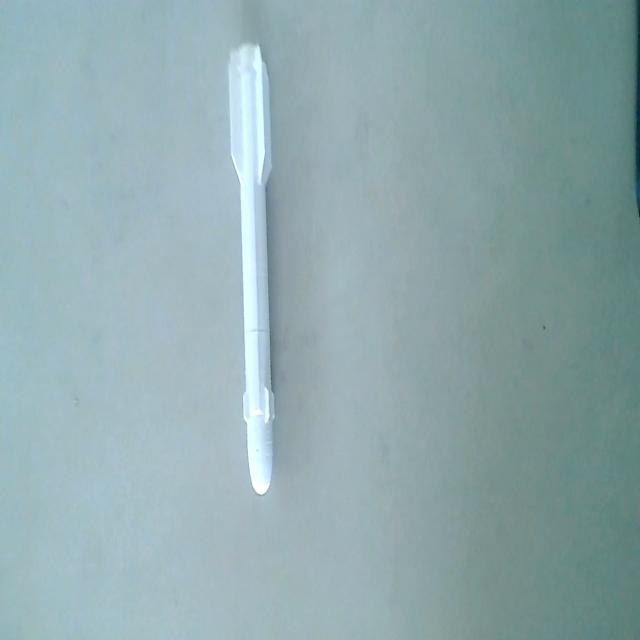Rocket: (228, 39, 279, 503)
